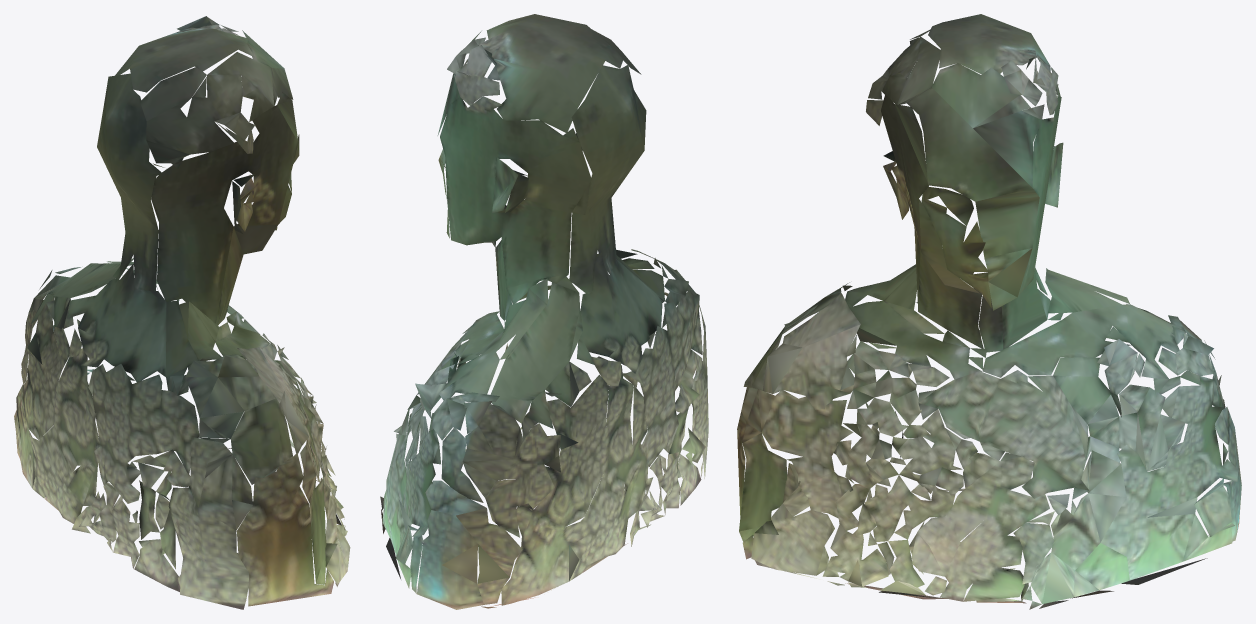
File: Statue1_LOD4.glb
The picture shows the model from 3 angles, left to right: view 1: azimuth 30°, elevation 25°; view 2: azimuth 150°, elevation 25°; view 3: azimuth 270°, elevation 25°; orthographic projection. The views are drawn at different scales.
Parts seen in each view (by area): view 1: Statue 1.001_LOD4; view 2: Statue 1.001_LOD4; view 3: Statue 1.001_LOD4.
Boxes of the visible parts, x1,y1,x2,y2 form: Statue 1.001_LOD4: (14,16,350,609); Statue 1.001_LOD4: (380,14,708,609); Statue 1.001_LOD4: (737,14,1241,609).
Bounding box in the file's own units: 0.2738 × 0.5202 × 0.46.
1 material, 1 textured.
